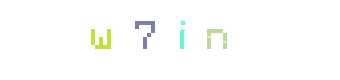7: (106, 0, 186, 80)
I: (130, 0, 210, 80)
N: (164, 0, 244, 80)
W: (61, 0, 141, 80)
